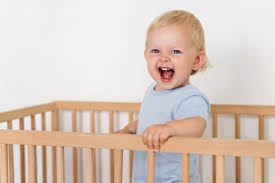baby: (117, 10, 209, 182)
crib: (0, 101, 154, 182)
